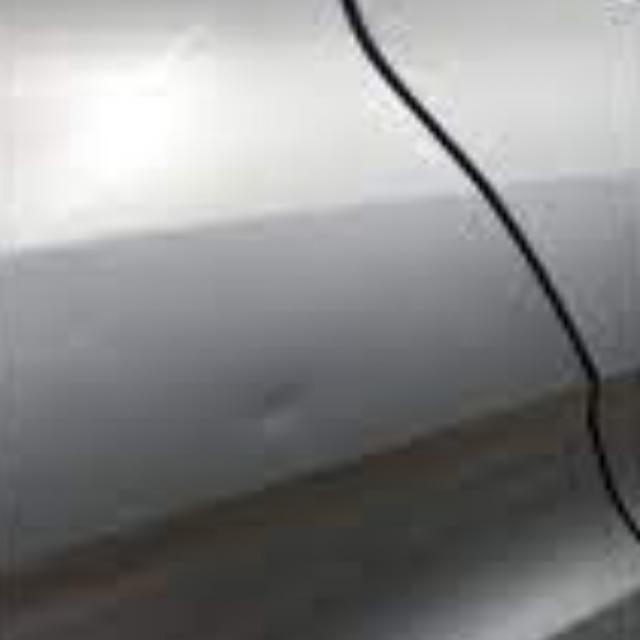dents: (211, 348, 373, 483)
